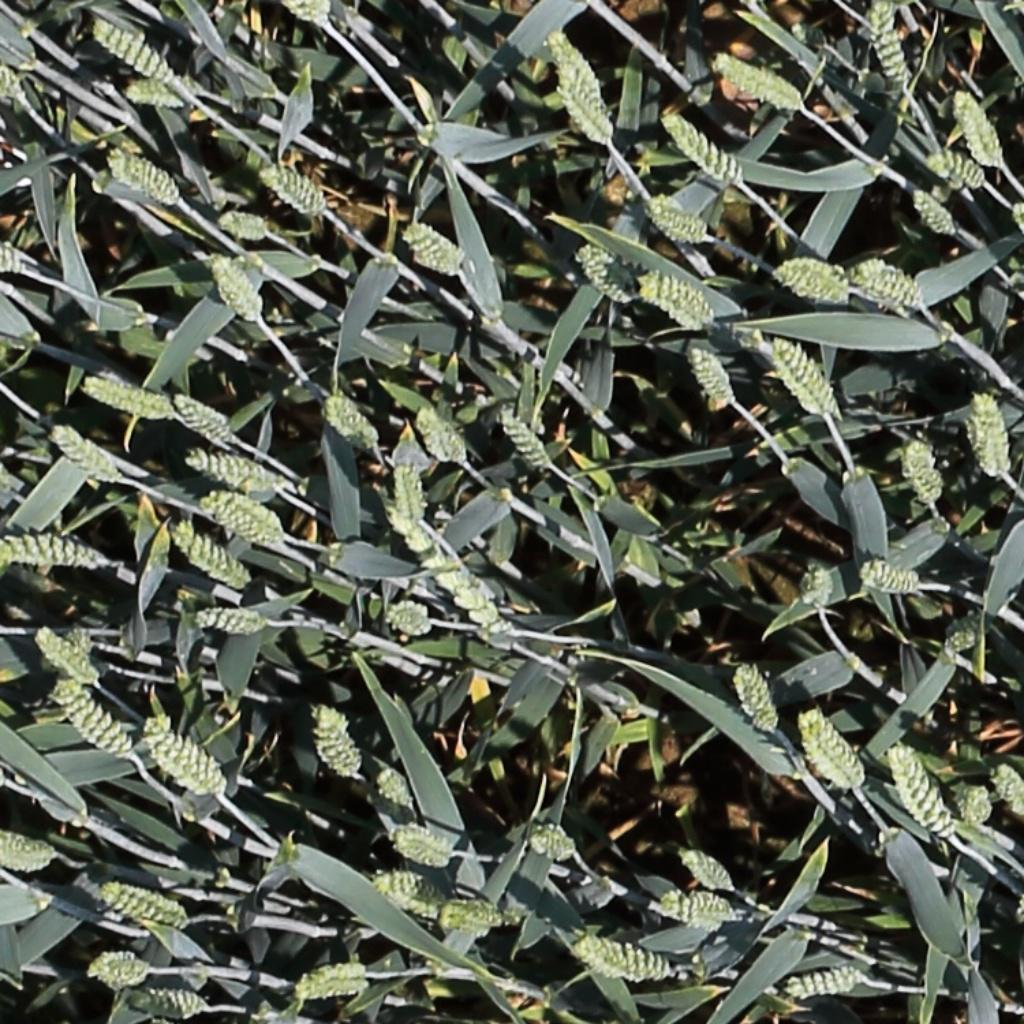0-0: (369, 478, 517, 637), (139, 716, 231, 801), (47, 678, 133, 765), (886, 742, 957, 845), (762, 336, 844, 424), (658, 106, 745, 186), (87, 16, 174, 86), (710, 51, 805, 113), (796, 704, 864, 790), (948, 81, 1007, 172), (167, 520, 245, 588), (181, 448, 289, 497), (635, 269, 718, 331), (0, 527, 113, 572), (546, 28, 608, 108), (569, 936, 673, 983), (47, 423, 124, 486), (554, 72, 617, 149), (363, 863, 445, 922), (306, 702, 366, 780), (203, 248, 263, 324), (32, 625, 104, 687), (866, 0, 914, 93), (102, 146, 179, 203), (847, 256, 926, 311), (318, 390, 384, 455), (77, 375, 173, 417), (729, 659, 779, 738), (646, 887, 737, 930), (572, 240, 633, 304), (496, 406, 556, 471), (968, 389, 1012, 477), (400, 220, 469, 276), (770, 254, 852, 301), (409, 403, 469, 467), (682, 343, 737, 412), (287, 958, 375, 1001), (255, 163, 327, 215), (436, 895, 532, 934), (95, 884, 182, 927), (777, 962, 870, 1001), (172, 390, 240, 443), (38, 616, 97, 677), (199, 491, 279, 535), (122, 71, 206, 111), (390, 820, 459, 867), (901, 431, 942, 510), (202, 502, 274, 546), (125, 986, 207, 1024), (389, 457, 433, 525), (931, 609, 986, 662), (519, 819, 582, 865), (674, 845, 734, 893), (858, 557, 926, 599), (0, 829, 62, 872), (907, 184, 958, 236), (86, 947, 150, 988), (189, 606, 269, 638), (924, 148, 987, 188), (796, 556, 840, 613), (382, 599, 438, 641), (652, 210, 711, 249), (374, 763, 420, 811), (988, 760, 1024, 821), (954, 784, 997, 831), (277, 0, 335, 30), (214, 210, 271, 240), (0, 63, 31, 109), (636, 191, 686, 216), (0, 240, 25, 276), (1010, 197, 1024, 245)
